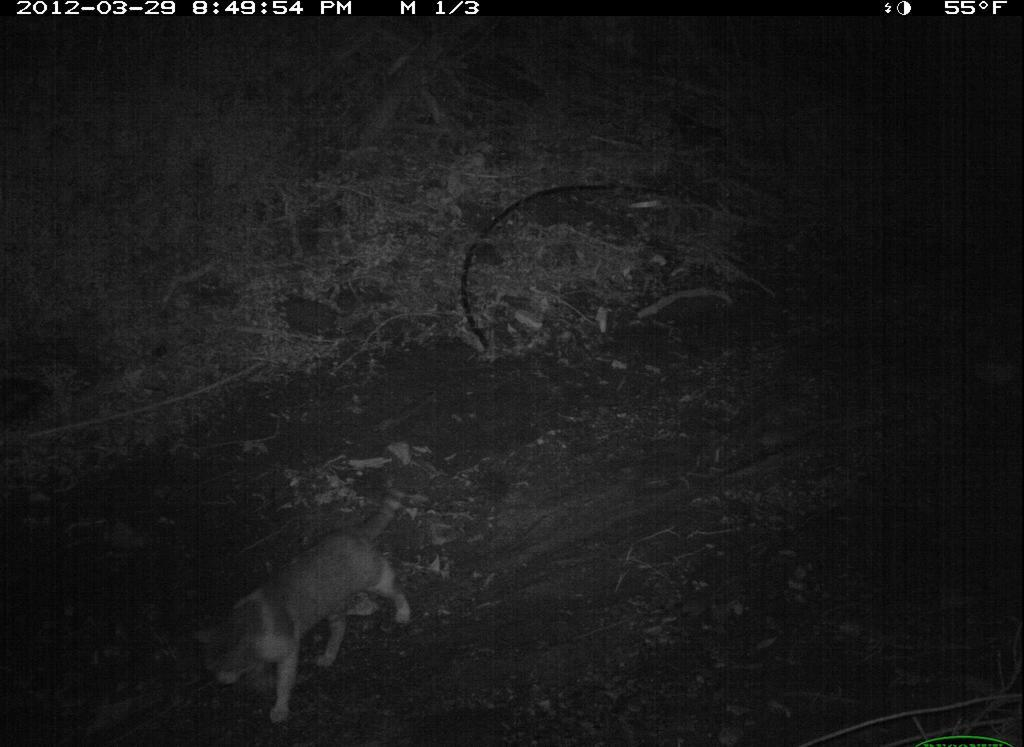cat: (189, 469, 420, 729)
